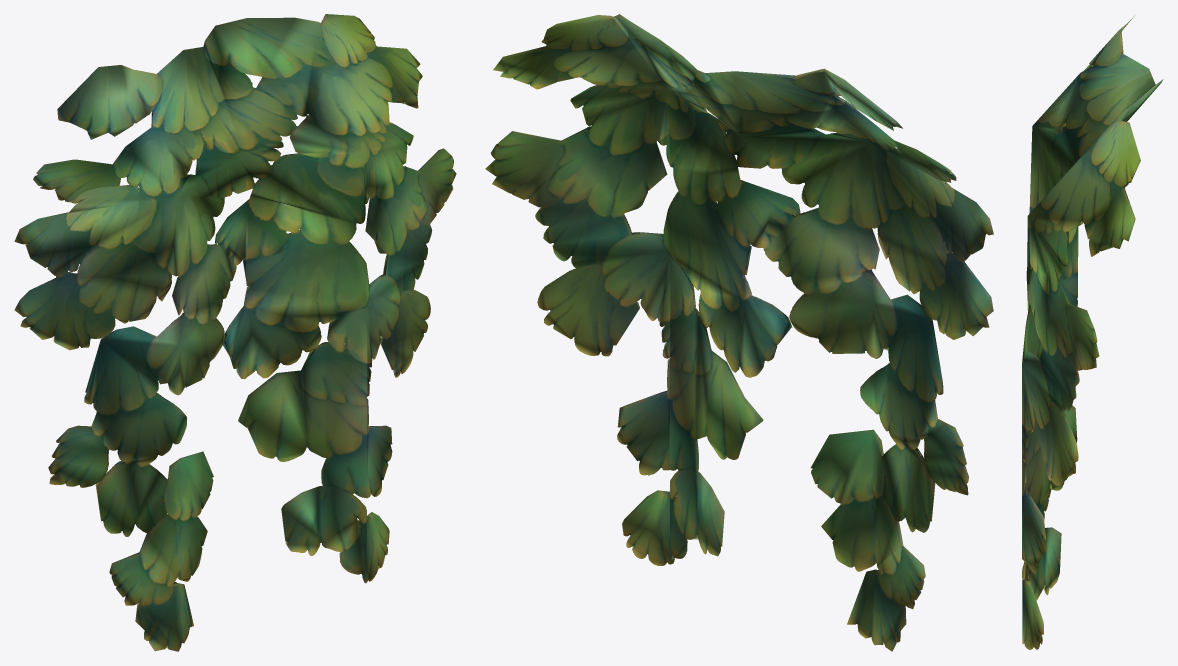
The model's file is geo_ivy_3d.fbx.
The picture shows the model from 3 angles, left to right: view 1: azimuth 30°, elevation 25°; view 2: azimuth 150°, elevation 25°; view 3: azimuth 270°, elevation 25°; orthographic projection. The views are drawn at different scales.
Parts seen in each view (by area): view 1: base.001; view 2: base.001; view 3: base.001.
Part boxes in pixels (<box>): base.001: <box>14,14,456,651</box>; base.001: <box>485,14,993,651</box>; base.001: <box>1022,15,1163,649</box>.
Bounding box in the file's own units: 1.63 × 1.93 × 0.4452.
